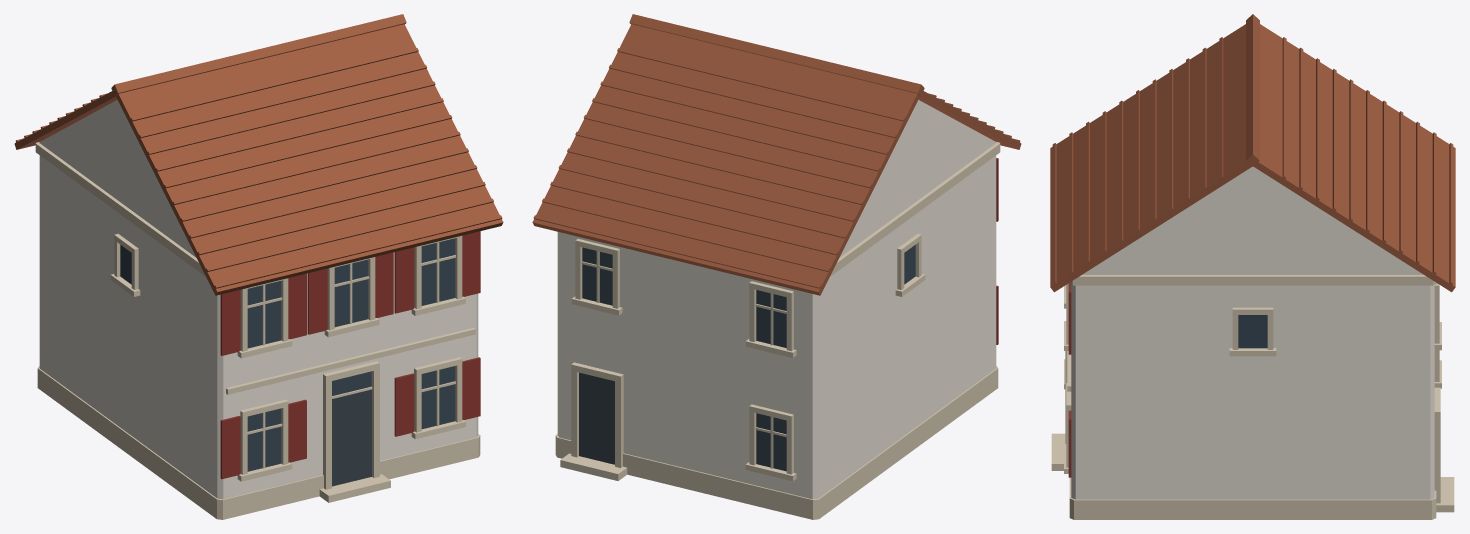
The model's file is maison-c.glb.
3 views of the same model, side by side, from view 1: azimuth 30°, elevation 25°; view 2: azimuth 150°, elevation 25°; view 3: azimuth 270°, elevation 25° (orthographic).
Parts seen in each view (by area): view 1: maison-c; view 2: maison-c; view 3: maison-c.
Boxes of the visible parts, bbox=[...] form: maison-c: bbox=[14, 14, 503, 519]; maison-c: bbox=[532, 14, 1021, 519]; maison-c: bbox=[1050, 14, 1455, 519].
Bounding box in the file's own units: 6.86 × 8.46 × 8.36.
